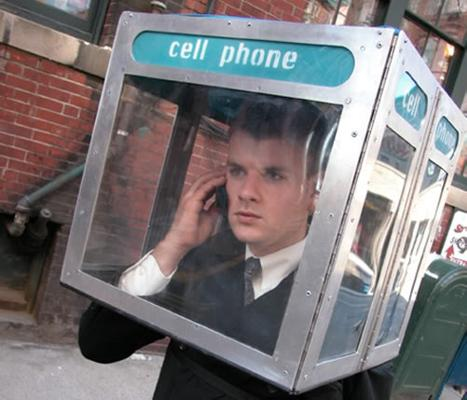person: (76, 99, 394, 400)
